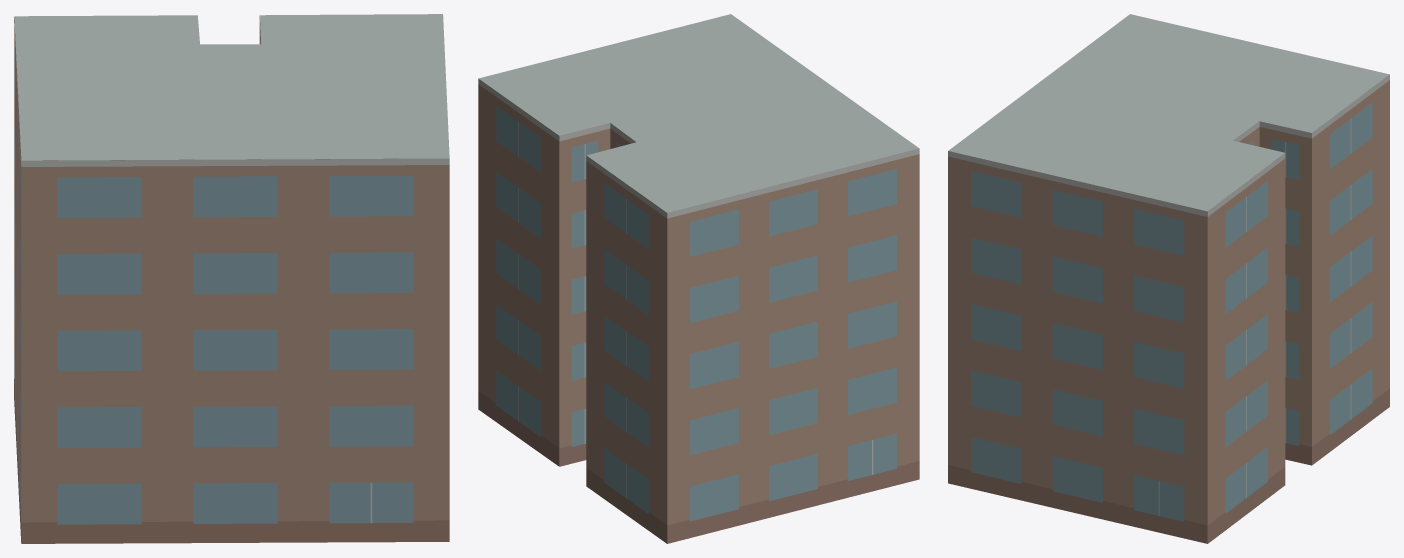
Rendered from survey-upis-32883260.glb.
The picture shows the model from 3 angles, left to right: view 1: azimuth 30°, elevation 25°; view 2: azimuth 150°, elevation 25°; view 3: azimuth 270°, elevation 25°; orthographic projection. The views are drawn at different scales.
Parts seen in each view (by area): view 1: survey-upis-32883260.tmp; view 2: survey-upis-32883260.tmp; view 3: survey-upis-32883260.tmp.
Boxes of the visible parts, x1,y1,x2,y2 form: survey-upis-32883260.tmp: [14, 14, 449, 543]; survey-upis-32883260.tmp: [478, 14, 919, 543]; survey-upis-32883260.tmp: [948, 14, 1389, 543].
Size of the model in its own units: 18.41 by 14.45 by 17.41.
